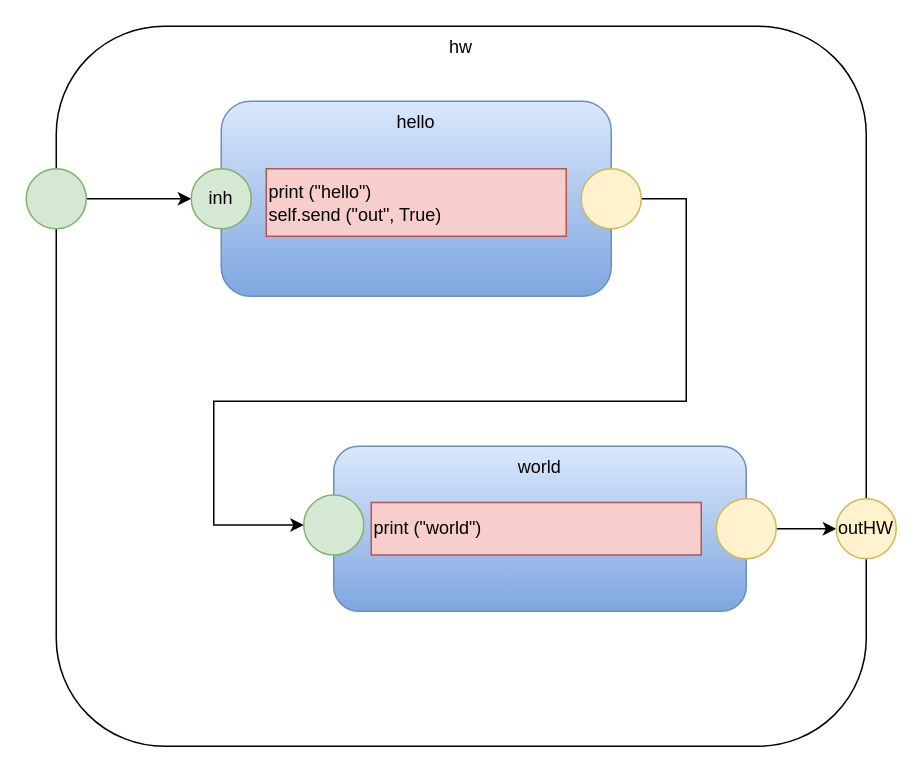
This 923x773 diagram has some shape labels left out. Here are the shapes that lost their labels. From the top down, the centre of each, then its label:
pixel 55 198: go
pixel 610 198: outh
pixel 333 524: inw
pixel 745 528: outw
